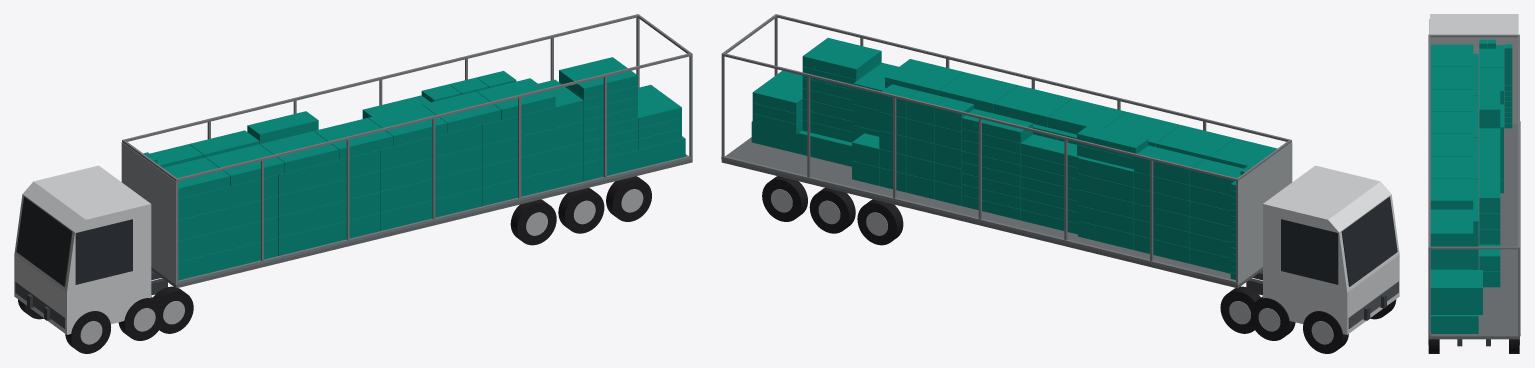
The model's file is carreta-BL03.glb.
3 views of the same model, side by side, from view 1: azimuth 30°, elevation 25°; view 2: azimuth 150°, elevation 25°; view 3: azimuth 270°, elevation 25° (orthographic). The views are drawn at different scales.
Visible parts, largest first — view 1: cabine, frente, janela, part27, part71, part19, piso, part61, part62, part63, part65, part67 (+39 smaller); view 2: cabine, piso, frente, janela, part27, part21, part86, part72, part20, part18, part77, part78 (+69 smaller); view 3: piso, cabine, frente, part89, part79, part86, part75, part78, part73, part74, part76, part77 (+36 smaller).
Part boxes in pixels (left/top/right/bottom): cabine: left=14, top=165, right=151, bottom=334; frente: left=121, top=142, right=176, bottom=284; janela: left=75, top=219, right=132, bottom=284; part27: left=16, top=196, right=72, bottom=286; part71: left=482, top=79, right=583, bottom=145; part19: left=176, top=156, right=691, bottom=284; piso: left=151, top=154, right=692, bottom=288; part61: left=278, top=192, right=379, bottom=237; part62: left=278, top=171, right=379, bottom=216; part63: left=278, top=150, right=379, bottom=195; part65: left=380, top=167, right=481, bottom=212; part67: left=380, top=125, right=481, bottom=170; cabine: left=1263, top=165, right=1399, bottom=334; piso: left=721, top=137, right=1262, bottom=288; frente: left=1238, top=142, right=1292, bottom=284; janela: left=1281, top=219, right=1338, bottom=284; part27: left=1341, top=196, right=1397, bottom=286; part21: left=721, top=156, right=1237, bottom=284; part86: left=802, top=38, right=881, bottom=79; part72: left=751, top=121, right=851, bottom=166; part20: left=721, top=53, right=1238, bottom=181; part18: left=775, top=14, right=1290, bottom=141; part77: left=993, top=85, right=1072, bottom=127; part78: left=939, top=72, right=1017, bottom=113; piso: left=1428, top=123, right=1519, bottom=339; cabine: left=1430, top=14, right=1518, bottom=34; frente: left=1430, top=37, right=1517, bottom=123; part89: left=1430, top=270, right=1482, bottom=296; part79: left=1430, top=178, right=1473, bottom=209; part86: left=1430, top=211, right=1473, bottom=242; part75: left=1430, top=89, right=1473, bottom=111; part78: left=1430, top=156, right=1473, bottom=178; part73: left=1430, top=44, right=1473, bottom=66; part74: left=1430, top=67, right=1473, bottom=89; part76: left=1430, top=111, right=1473, bottom=133; part77: left=1430, top=134, right=1473, bottom=156.
Size of the model in its own units: 17.14 by 3.99 by 2.58.
